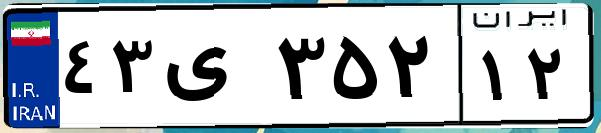1: (475, 38, 525, 113)
2: (385, 28, 445, 110), (525, 38, 570, 115)
3: (270, 28, 330, 110), (110, 28, 158, 98)
4: (57, 26, 110, 100)
5: (330, 28, 385, 110)
ی: (158, 20, 270, 120)
